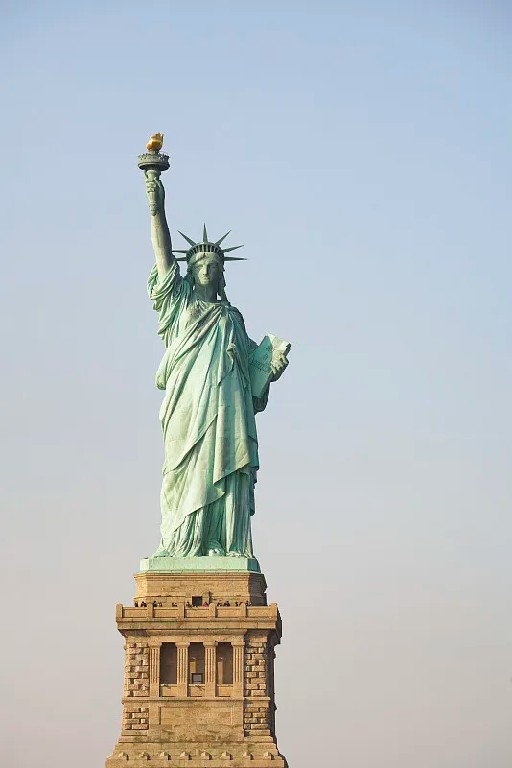SL: (105, 132, 288, 768)
